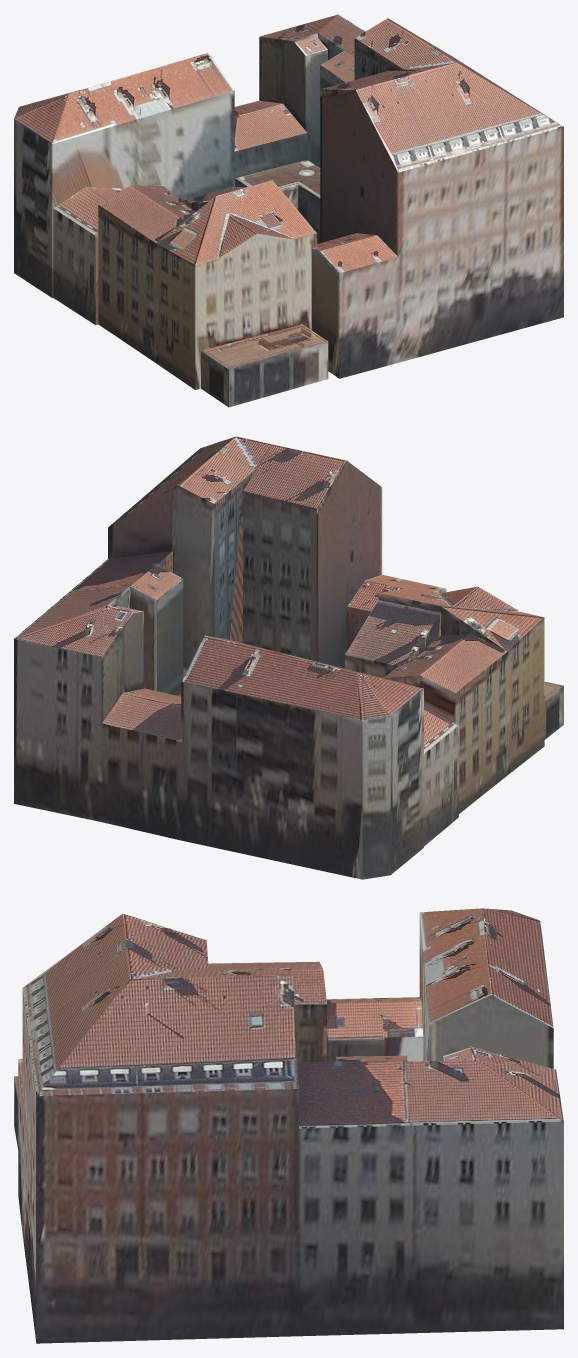
The model's file is LYON_1ER_00003.dae.
The picture shows the model from 3 angles, top to bottom: view 1: azimuth 30°, elevation 25°; view 2: azimuth 150°, elevation 25°; view 3: azimuth 270°, elevation 25°; orthographic projection. The views are drawn at different scales.
Bounding box in the file's own units: 47.78 × 47.7 × 30.55.
Materials: 2 (2 with a texture image).
